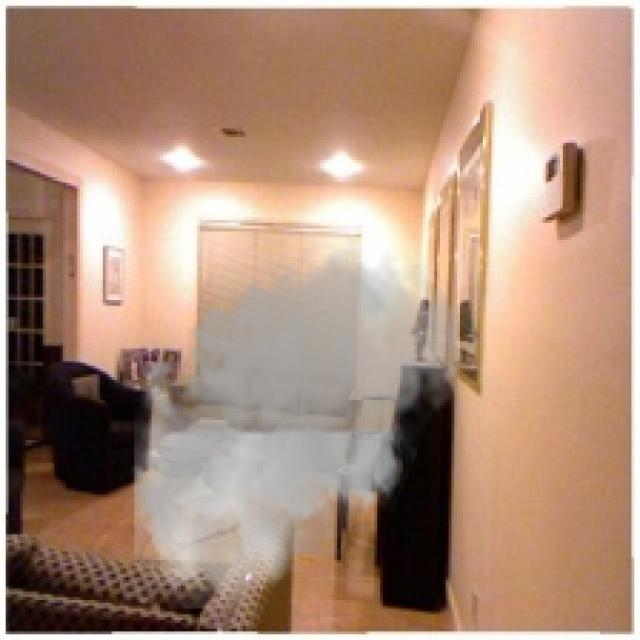smoke: (120, 234, 469, 609)
